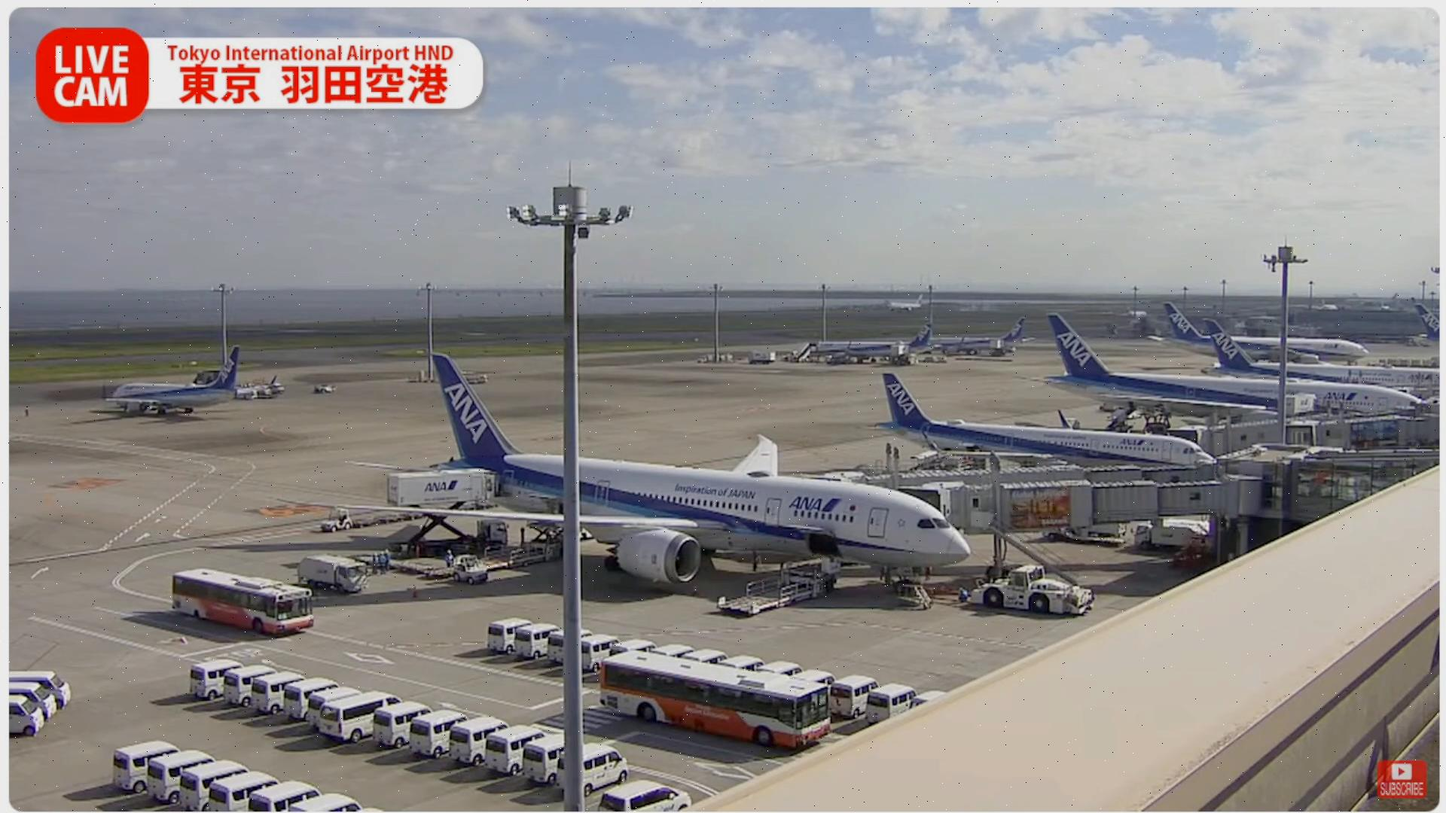APS: (969, 564, 1106, 619)
Aerobridge: (899, 476, 1264, 540), (843, 457, 1217, 496)
Airplane: (330, 354, 973, 599)
Baggage truck: (295, 550, 370, 591)
Catering: (382, 466, 503, 553)
Dolly: (351, 548, 457, 581), (353, 508, 424, 531)
JCPL: (712, 552, 839, 616), (450, 522, 565, 575)
Tractor: (454, 553, 493, 585), (319, 506, 354, 532)
Window: (1290, 456, 1440, 523)
